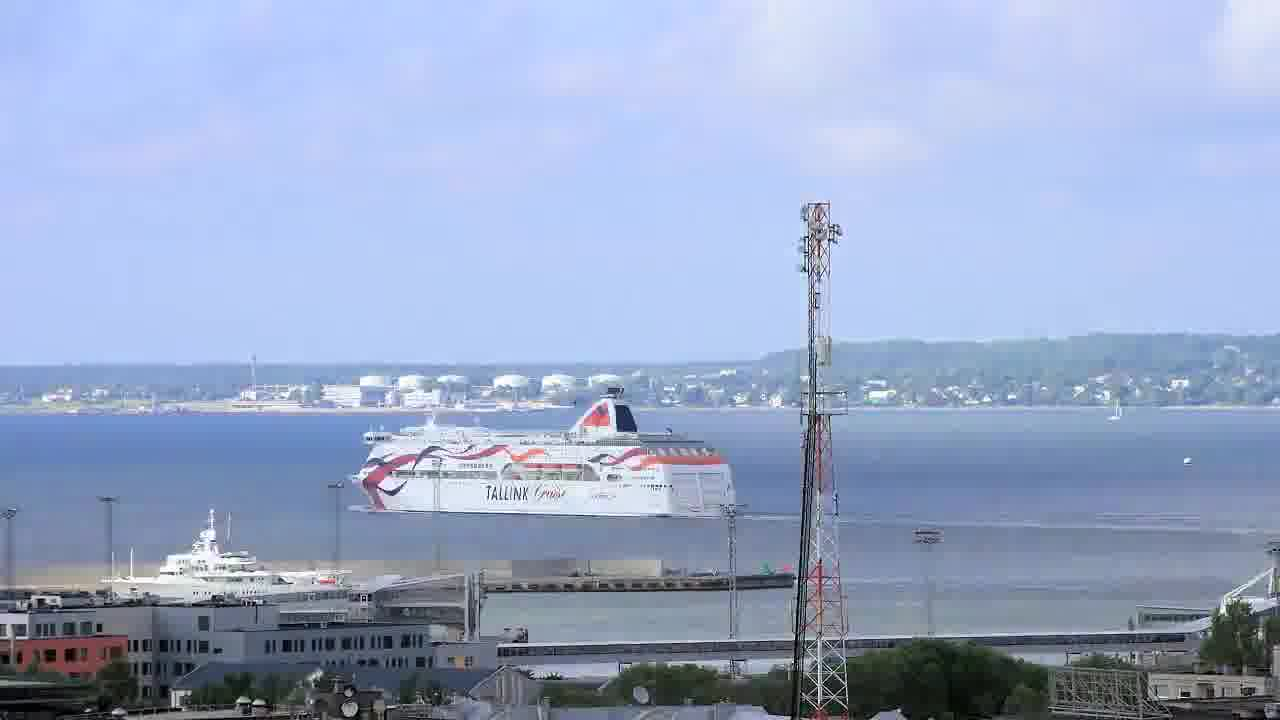type-3: (336, 360, 746, 531), (96, 508, 381, 605)
